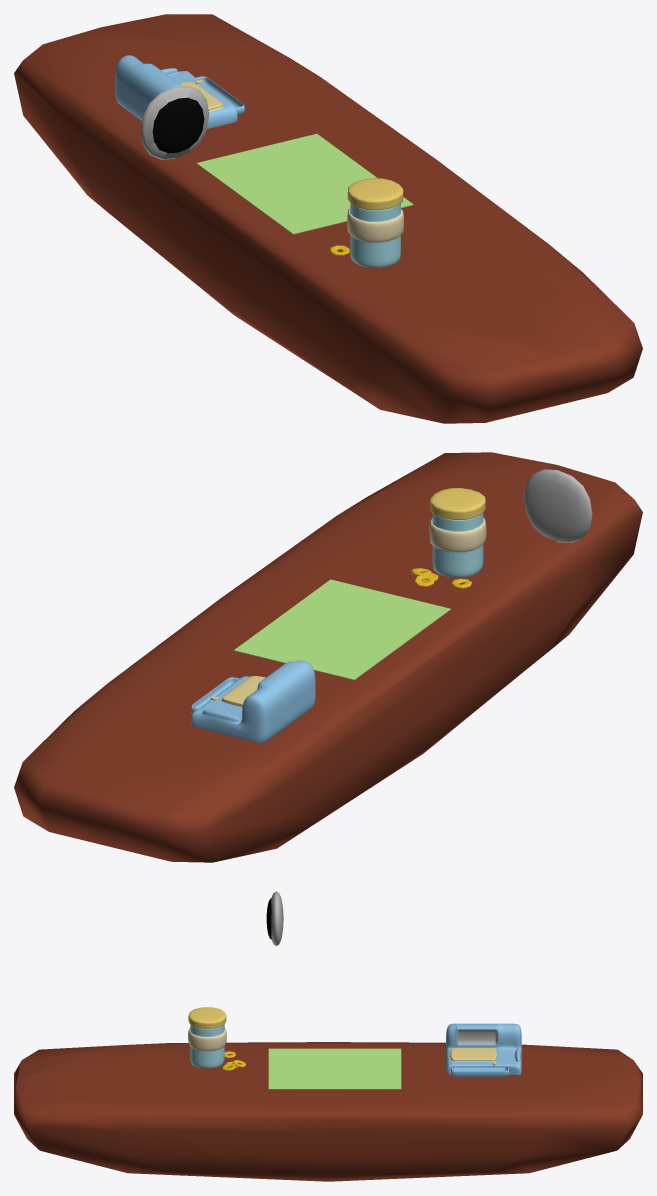
The model's file is TableWW.fbx.
3 views of the same model, one above another, from view 1: azimuth 30°, elevation 25°; view 2: azimuth 150°, elevation 25°; view 3: azimuth 270°, elevation 25° (orthographic). The views are drawn at different scales.
Visible parts, largest first — view 1: Cube.001, Plane, Cube.005, Cube.004, Cube.002; view 2: Cube.001, Plane, Cube.004, Cube.005, Cube.002; view 3: Cube.001, Plane, Cube.004, Cube.005, Cube.002.
Boxes of the visible parts, bbox=[...] form: Cube.001: bbox=[14, 14, 642, 423]; Plane: bbox=[196, 133, 413, 234]; Cube.005: bbox=[347, 178, 403, 267]; Cube.004: bbox=[115, 55, 244, 128]; Cube.002: bbox=[140, 86, 209, 159]; Cube.001: bbox=[14, 452, 642, 862]; Plane: bbox=[234, 579, 450, 680]; Cube.004: bbox=[190, 660, 315, 742]; Cube.005: bbox=[429, 488, 486, 577]; Cube.002: bbox=[523, 469, 592, 542]; Cube.001: bbox=[14, 1042, 642, 1181]; Plane: bbox=[268, 1048, 401, 1089]; Cube.004: bbox=[446, 1023, 521, 1076]; Cube.005: bbox=[188, 1007, 226, 1068]; Cube.002: bbox=[266, 891, 283, 946].
Bounding box in the file's own units: 709 × 564 × 1663.
